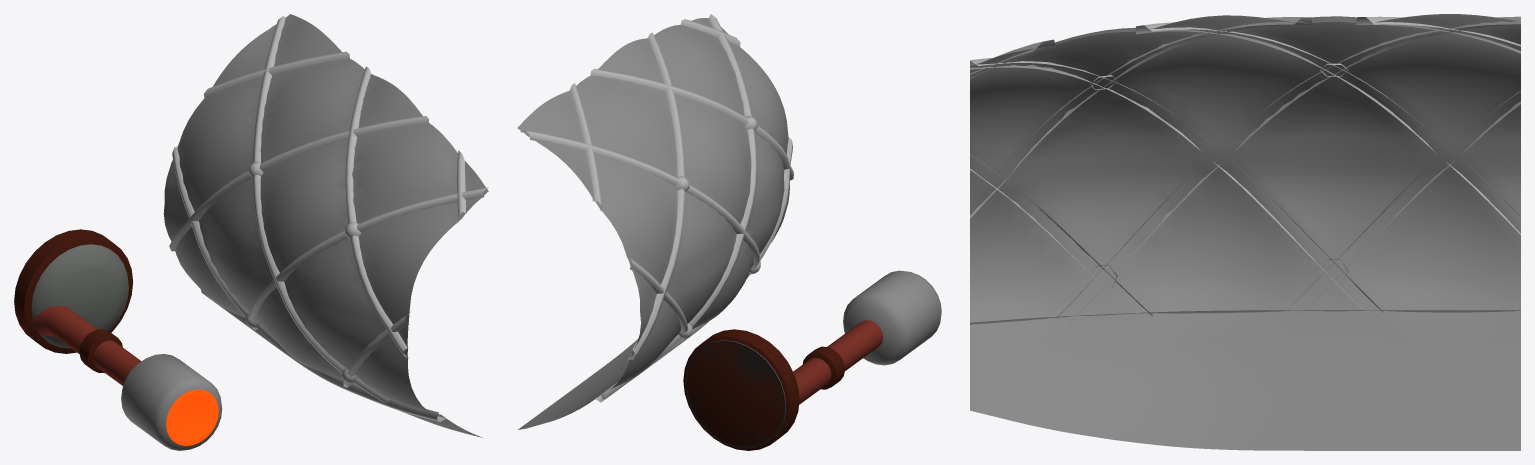
Rendered from zeppelin_115.glb.
The picture shows the model from 3 angles, left to right: view 1: azimuth 30°, elevation 25°; view 2: azimuth 150°, elevation 25°; view 3: azimuth 270°, elevation 25°; orthographic projection. The views are drawn at different scales.
Parts seen in each view (by area): view 1: envelope.001, net_ropes.001, gun_body.001, gun_muzzle.001, gun_band2.001, gun_barrel.001, gun_fire_ring.001, net_load.001, gun_barrel_ring.001, net_knots.001; view 2: envelope.001, net_ropes.001, gun_band2.001, gun_muzzle.001, gun_body.001, gun_barrel.001, gun_barrel_ring.001, net_knots.001; view 3: envelope.001, net_ropes.001, net_load.001.
Boxes of the visible parts, box(x1,y1,x2,y2) form: envelope.001: box(163, 14, 488, 437); net_ropes.001: box(169, 16, 488, 403); gun_body.001: box(31, 244, 128, 348); gun_muzzle.001: box(121, 354, 222, 450); gun_band2.001: box(14, 229, 132, 353); gun_barrel.001: box(33, 306, 141, 385); gun_fire_ring.001: box(166, 389, 218, 445); net_load.001: box(201, 291, 446, 421); gun_barrel_ring.001: box(79, 329, 122, 372); net_knots.001: box(245, 161, 360, 383); envelope.001: box(517, 18, 789, 429); net_ropes.001: box(520, 14, 793, 400); gun_band2.001: box(683, 329, 799, 450); gun_muzzle.001: box(843, 270, 941, 365); gun_body.001: box(685, 340, 785, 448); gun_barrel.001: box(793, 320, 883, 404); gun_barrel_ring.001: box(802, 346, 845, 389); net_knots.001: box(675, 115, 760, 338); envelope.001: box(970, 14, 1520, 450); net_ropes.001: box(970, 16, 1520, 325); net_load.001: box(970, 310, 1520, 337).
Bounding box in the file's own units: 23.28 × 24.51 × 28.
